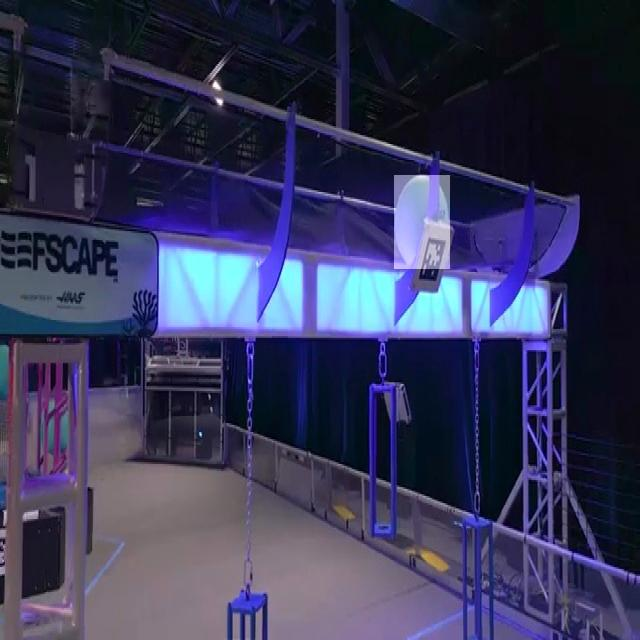Algae: (394, 175, 450, 269)
